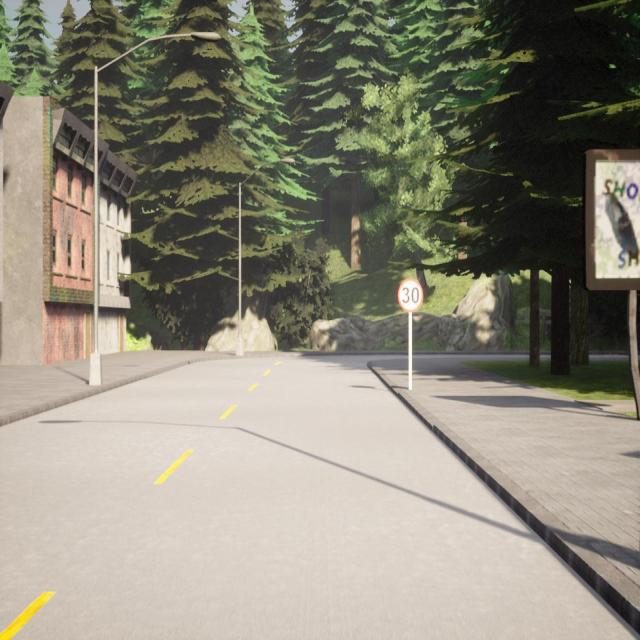Traffic_Signs: (396, 278, 424, 312)
